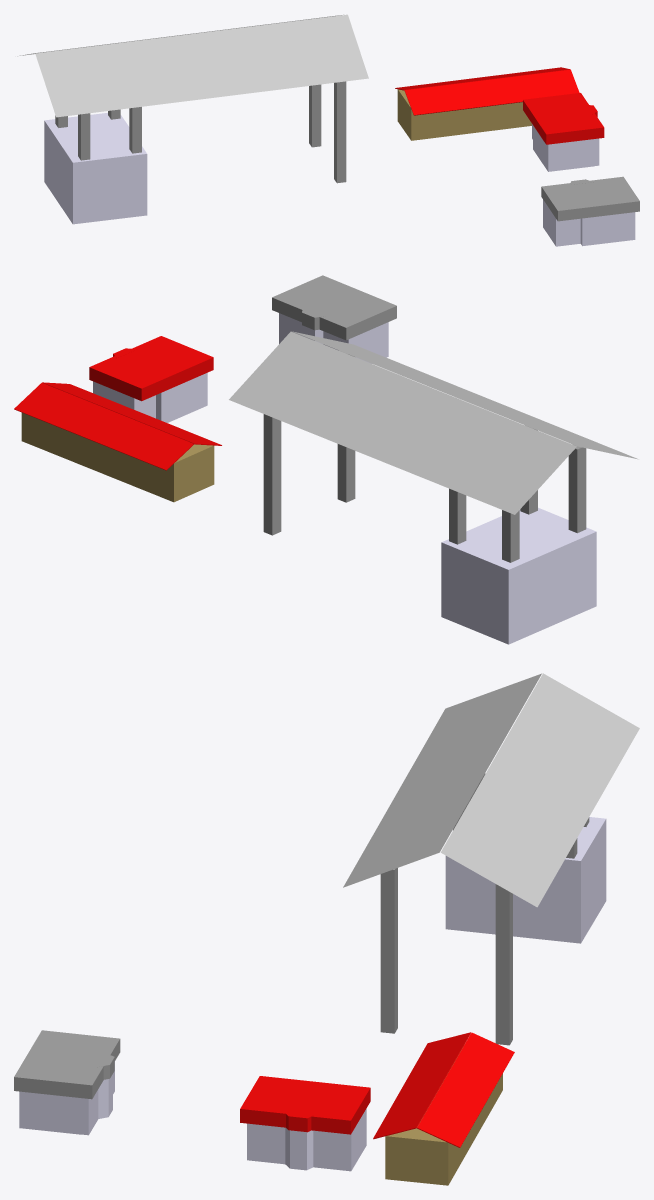
The model's file is villa.fbx.
3 views of the same model, one above another, from view 1: azimuth 30°, elevation 25°; view 2: azimuth 150°, elevation 25°; view 3: azimuth 270°, elevation 25° (orthographic). The views are drawn at different scales.
Parts seen in each view (by area): view 1: Cube_7, Cube_4, Cube_2_2, Cube_3_2, Cube_1_4, Cube_1_3, Cube_2_3, Cube_2_4, Cube_1, Cube_5_2, Cube, Cube_1_2 (+3 smaller); view 2: Cube_8, Cube_4, Cube_3_2, Cube_1_2, Cube_1_3, Cube_1_4, Cube_7, Cube, Cube_2_3, Cube_2_2, Cube_6, Cube_5_2 (+4 smaller); view 3: Cube_8, Cube_7, Cube_4, Cube_1_3, Cube_1_2, Cube_1_4, Cube_3_2, Cube_2_2, Cube_4_3, Cube_1, Cube, Cube_2_4 (+1 smaller).
Boxes of the visible parts, x1=… form: Cube_7: x1=35, y1=14, x2=368, y2=117; Cube_4: x1=44, y1=113, x2=147, y2=224; Cube_2_2: x1=404, y1=69, x2=579, y2=115; Cube_3_2: x1=397, y1=89, x2=531, y2=140; Cube_1_4: x1=541, y1=176, x2=639, y2=221; Cube_1_3: x1=523, y1=93, x2=604, y2=144; Cube_2_3: x1=533, y1=125, x2=593, y2=171; Cube_2_4: x1=580, y1=212, x2=635, y2=246; Cube_1: x1=334, y1=81, x2=346, y2=183; Cube_5_2: x1=543, y1=200, x2=580, y2=246; Cube: x1=309, y1=84, x2=321, y2=147; Cube_1_2: x1=395, y1=67, x2=570, y2=90; Cube_8: x1=229, y1=331, x2=576, y2=514; Cube_4: x1=441, y1=507, x2=596, y2=644; Cube_3_2: x1=21, y1=412, x2=214, y2=502; Cube_1_2: x1=14, y1=383, x2=193, y2=470; Cube_1_3: x1=89, y1=336, x2=213, y2=401; Cube_1_4: x1=272, y1=275, x2=396, y2=340; Cube_7: x1=292, y1=331, x2=638, y2=459; Cube: x1=263, y1=414, x2=281, y2=535; Cube_2_3: x1=156, y1=372, x2=207, y2=422; Cube_2_2: x1=42, y1=382, x2=221, y2=445; Cube_6: x1=568, y1=444, x2=586, y2=533; Cube_5_2: x1=279, y1=313, x2=388, y2=363; Cube_8: x1=440, y1=673, x2=639, y2=907; Cube_7: x1=343, y1=673, x2=541, y2=887; Cube_4: x1=445, y1=817, x2=606, y2=943; Cube_1_3: x1=240, y1=1076, x2=370, y2=1134; Cube_1_2: x1=417, y1=1032, x2=514, y2=1147; Cube_1_4: x1=14, y1=1030, x2=120, y2=1099; Cube_3_2: x1=385, y1=1044, x2=502, y2=1185; Cube_2_2: x1=373, y1=1032, x2=470, y2=1139; Cube_4_3: x1=247, y1=1108, x2=366, y2=1171; Cube_1: x1=380, y1=868, x2=397, y2=1033; Cube: x1=495, y1=884, x2=512, y2=1045; Cube_2_4: x1=19, y1=1091, x2=80, y2=1134.
Bounding box in the file's own units: 10548 × 3043 × 8363.
